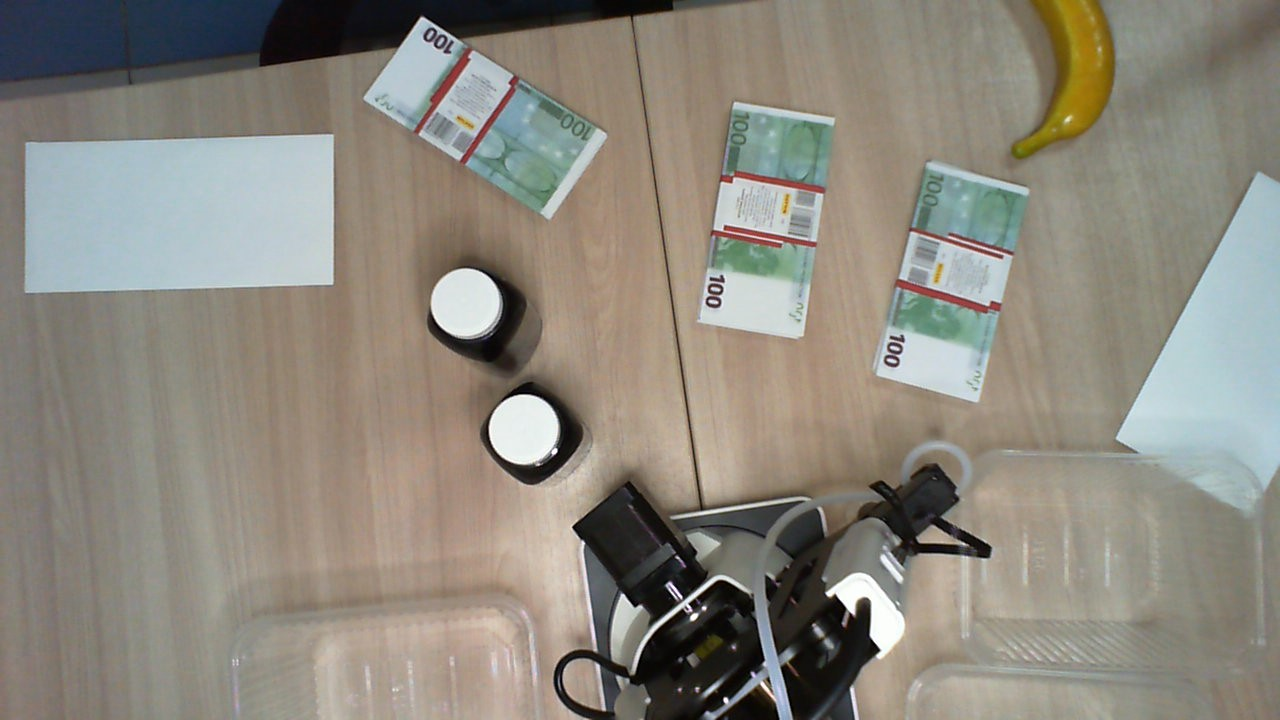banana: (1012, 1, 1120, 159)
bottle: (425, 260, 528, 356), (479, 385, 577, 485)
convert: (1116, 170, 1280, 510), (23, 131, 337, 296)
money: (364, 14, 608, 220), (875, 160, 1028, 400), (699, 100, 836, 337)
